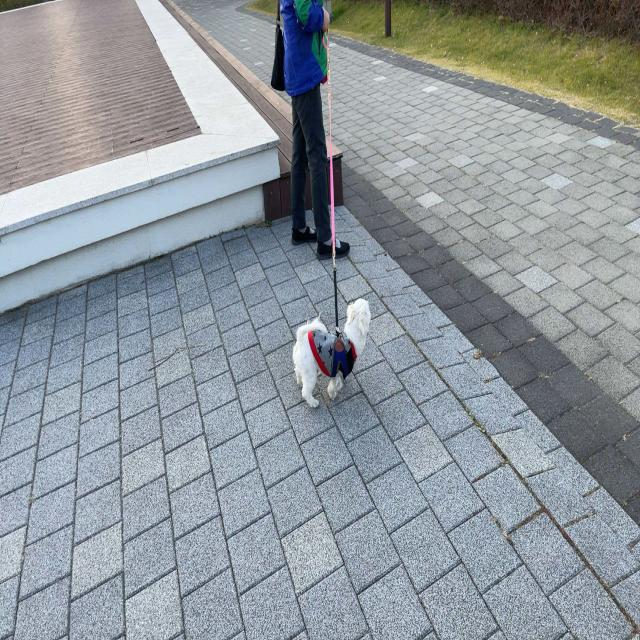Leashed_Dog: (293, 5, 371, 409)
